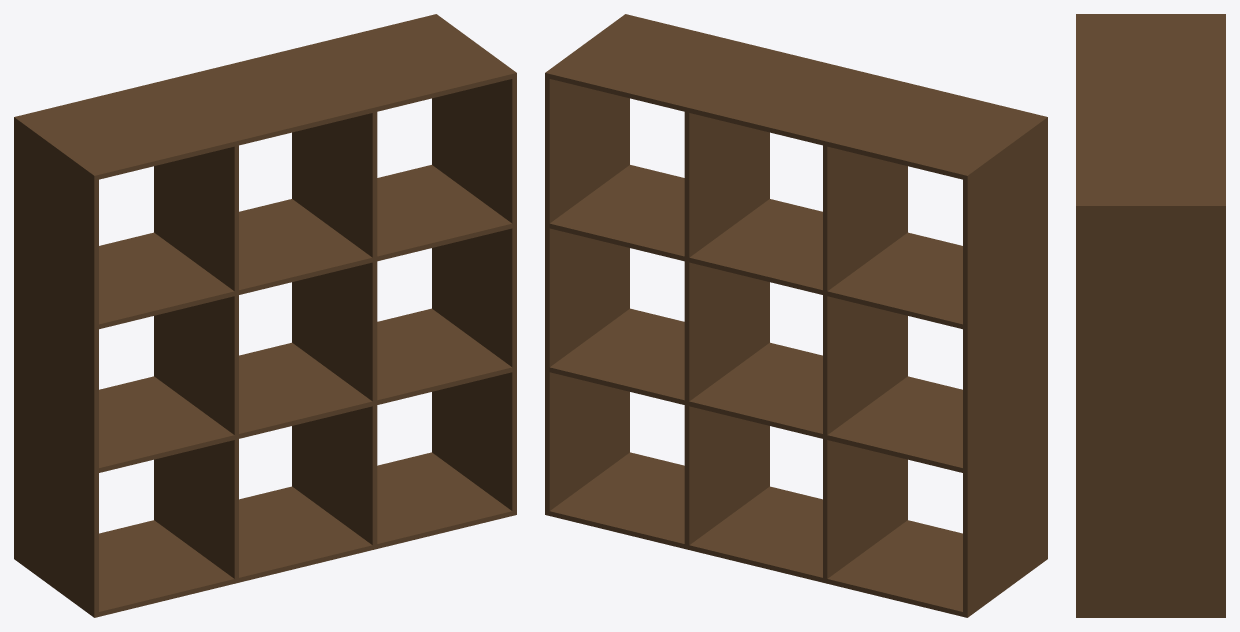
The model's file is ayakkablk.fbx.
The picture shows the model from 3 angles, left to right: view 1: azimuth 30°, elevation 25°; view 2: azimuth 150°, elevation 25°; view 3: azimuth 270°, elevation 25°; orthographic projection. The views are drawn at different scales.
Parts seen in each view (by area): view 1: shelving_unit_01; view 2: shelving_unit_01; view 3: shelving_unit_01.
Boxes of the visible parts, bbox=[...] form: shelving_unit_01: bbox=[14, 14, 516, 617]; shelving_unit_01: bbox=[545, 14, 1047, 617]; shelving_unit_01: bbox=[1076, 14, 1225, 617].
Size of the model in its own units: 91 by 91 by 30.
